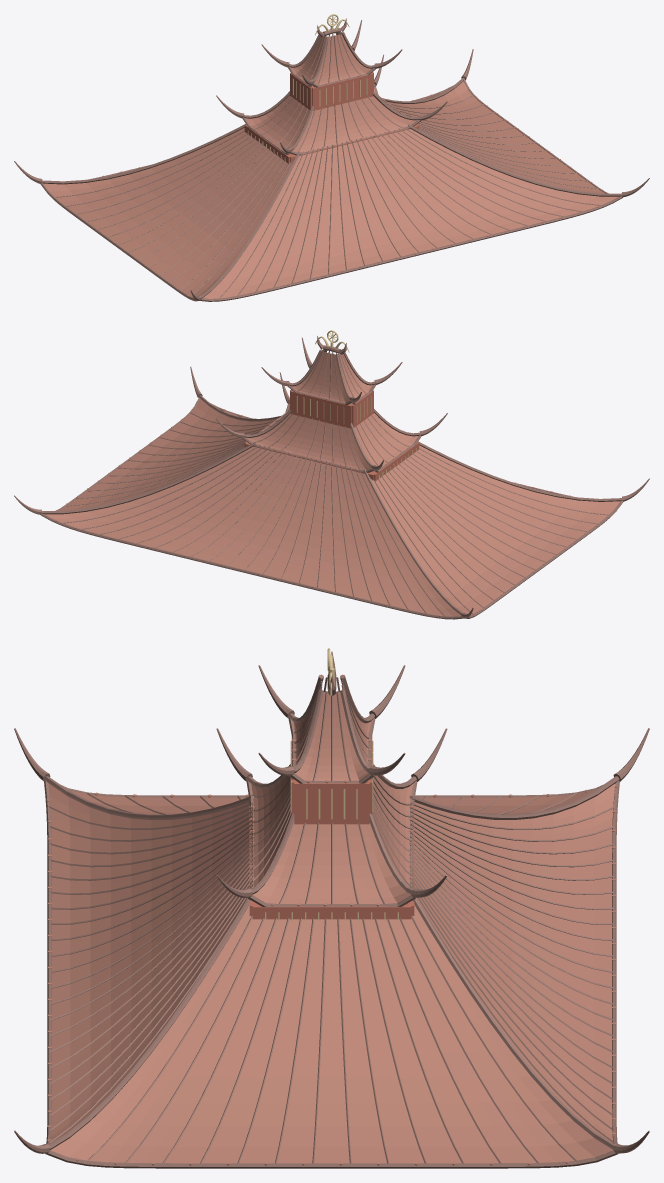
File: dien-tam-the-roof.glb
3 views of the same model, one above another, from view 1: azimuth 30°, elevation 25°; view 2: azimuth 150°, elevation 25°; view 3: azimuth 270°, elevation 25° (orthographic). The views are drawn at different scales.
Parts seen in each view (by area): view 1: dien-tam-the-roof-tile, dien-tam-the-roof-tile-dark, dien-tam-the-roof-red, dien-tam-the-roof-gold; view 2: dien-tam-the-roof-tile, dien-tam-the-roof-tile-dark, dien-tam-the-roof-red, dien-tam-the-roof-gold; view 3: dien-tam-the-roof-tile, dien-tam-the-roof-tile-dark, dien-tam-the-roof-red, dien-tam-the-roof-gold.
Part boxes in pixels (bbox=[...]): dien-tam-the-roof-tile: bbox=[44, 34, 618, 299]; dien-tam-the-roof-tile-dark: bbox=[14, 18, 649, 301]; dien-tam-the-roof-red: bbox=[244, 72, 419, 163]; dien-tam-the-roof-gold: bbox=[247, 14, 367, 161]; dien-tam-the-roof-tile: bbox=[45, 352, 619, 617]; dien-tam-the-roof-tile-dark: bbox=[14, 336, 649, 619]; dien-tam-the-roof-red: bbox=[244, 390, 419, 481]; dien-tam-the-roof-gold: bbox=[296, 330, 416, 479]; dien-tam-the-roof-tile: bbox=[46, 692, 618, 1165]; dien-tam-the-roof-tile-dark: bbox=[14, 651, 649, 1168]; dien-tam-the-roof-red: bbox=[249, 736, 414, 919]; dien-tam-the-roof-gold: bbox=[265, 648, 398, 920].
Size of the model in its own units: 38.94 by 15.08 by 25.94.
